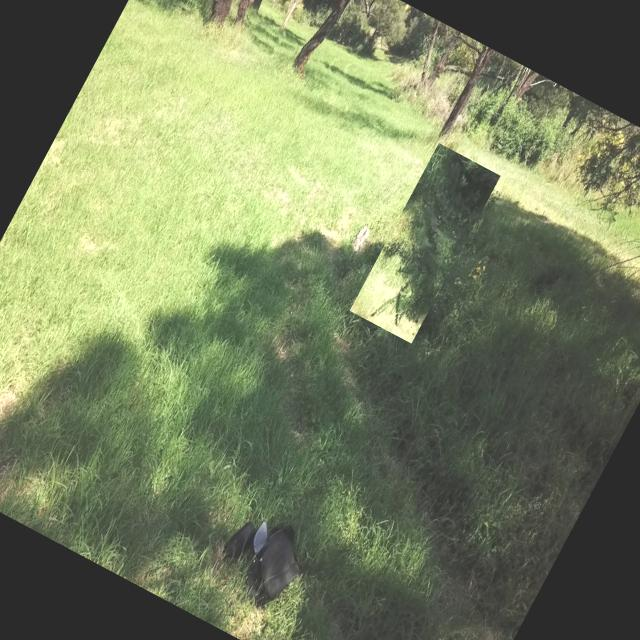Mysore-Thorn-Weed: (350, 142, 500, 344)
